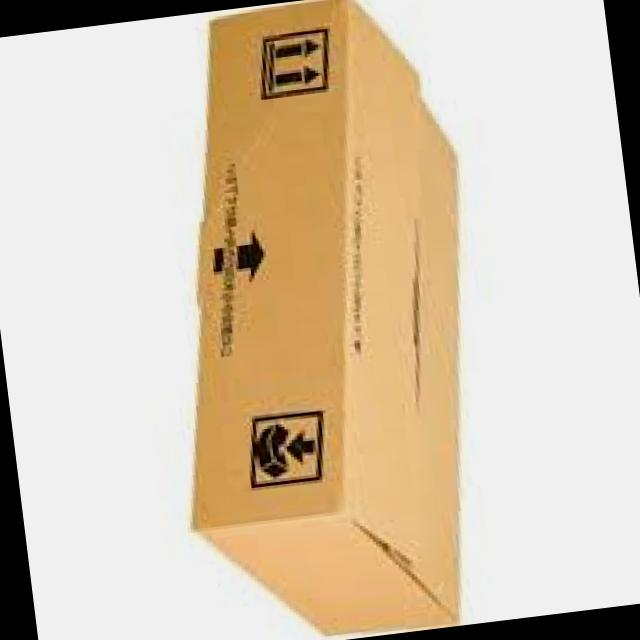cardboard: (193, 0, 458, 634)
